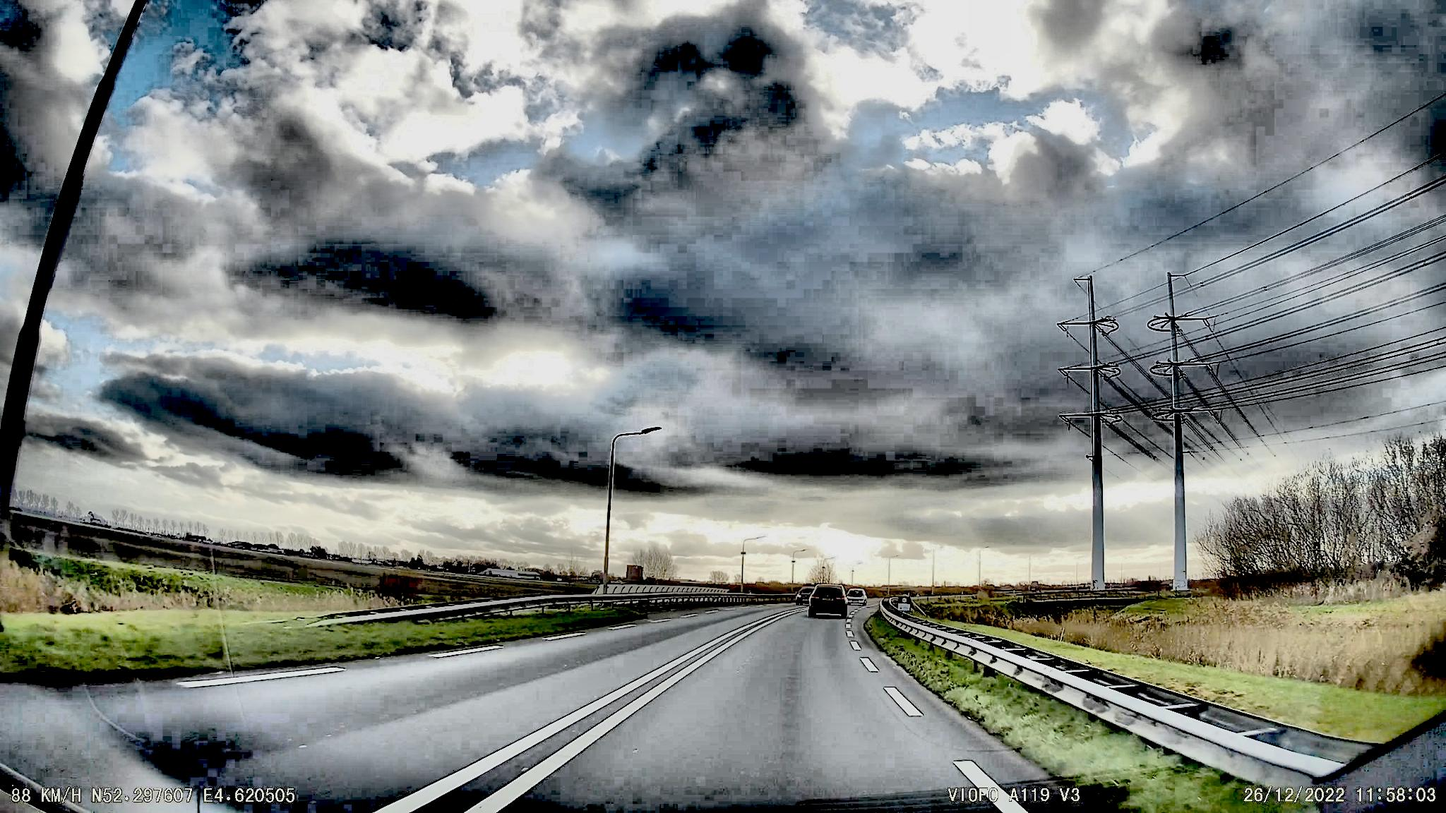Roads: (0, 610, 1100, 813)
